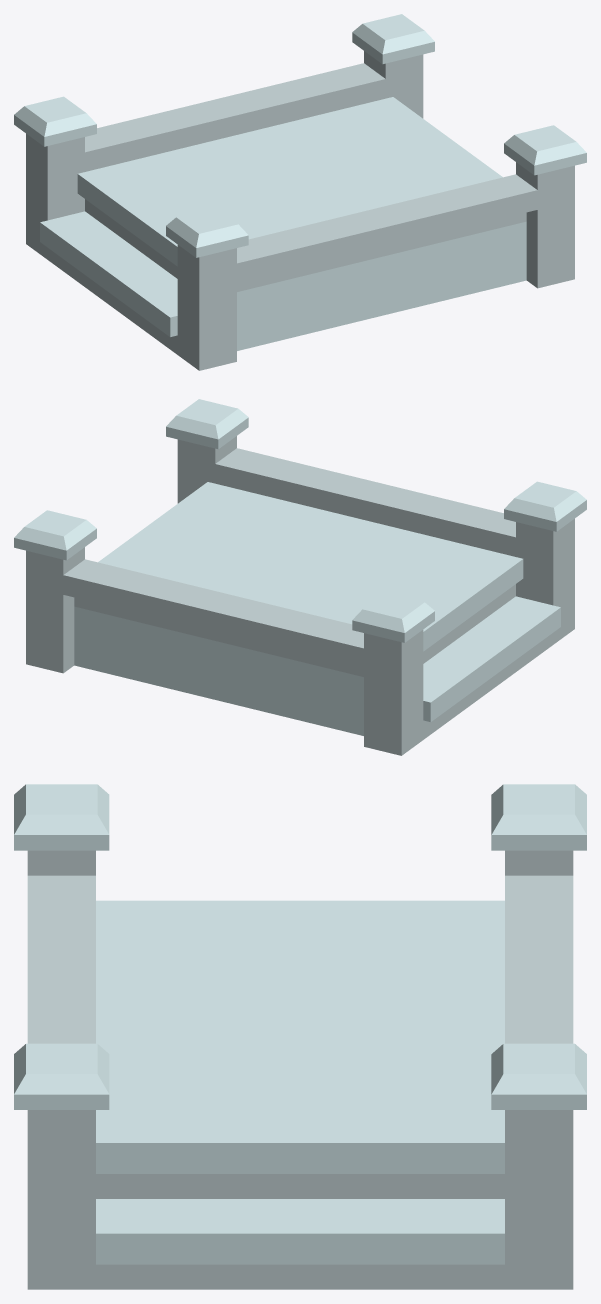
The model's file is bridge_stoneNarrow.glb.
The picture shows the model from 3 angles, top to bottom: view 1: azimuth 30°, elevation 25°; view 2: azimuth 150°, elevation 25°; view 3: azimuth 270°, elevation 25°; orthographic projection. The views are drawn at different scales.
Parts seen in each view (by area): view 1: bridge_stoneNarrow; view 2: bridge_stoneNarrow; view 3: bridge_stoneNarrow.
Part boxes in pixels (box(x1,y1,x2,y2)): bridge_stoneNarrow: box(14, 14, 586, 370); bridge_stoneNarrow: box(14, 399, 586, 755); bridge_stoneNarrow: box(14, 784, 586, 1289).
Size of the model in its own units: 1.04 by 0.35 by 0.84.
